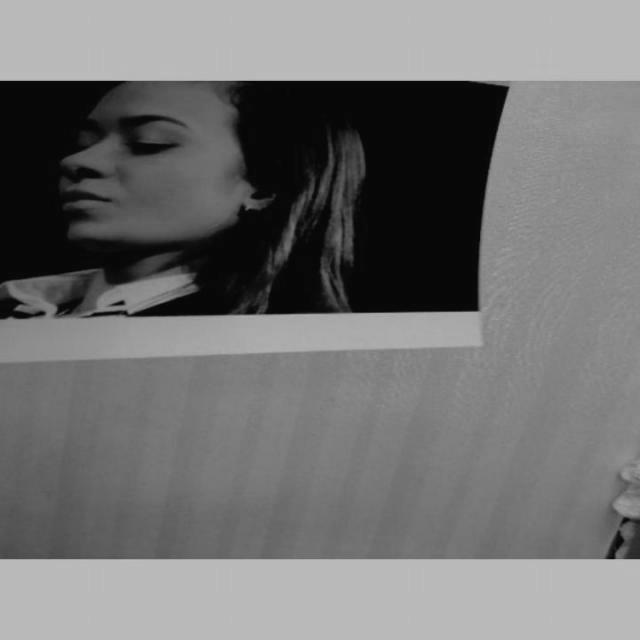fake: (0, 80, 526, 372)
